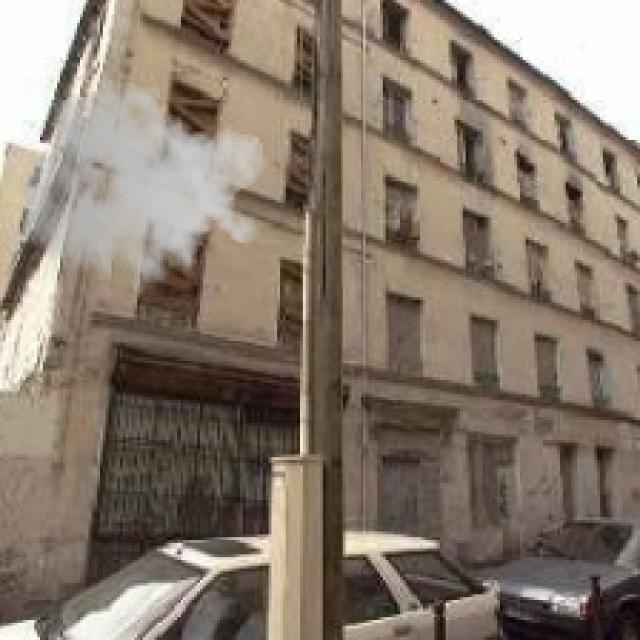Smoke: (17, 69, 269, 308)
